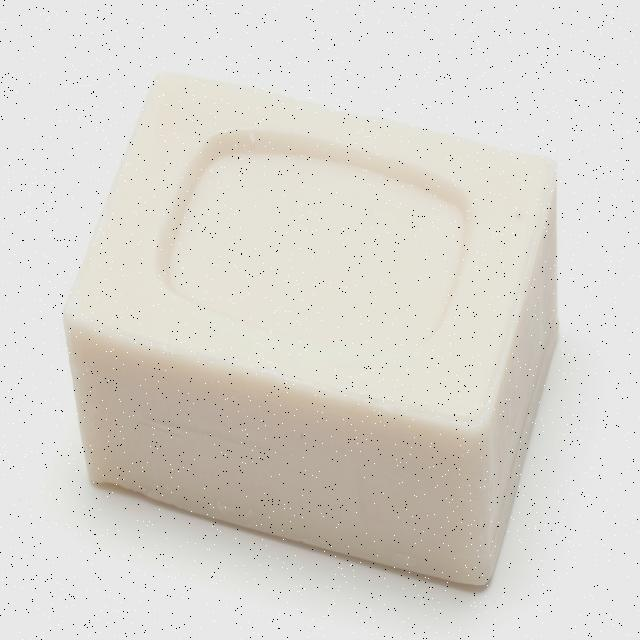soap: (39, 58, 579, 604)
